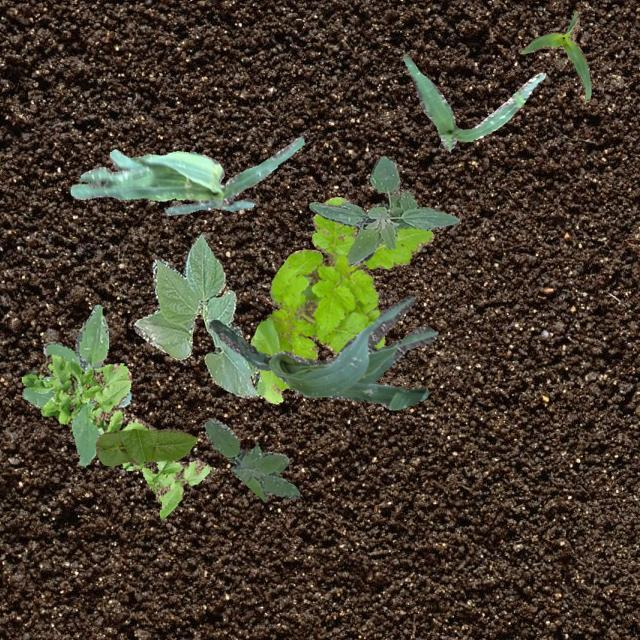crop: (208, 294, 437, 408), (132, 234, 264, 396), (70, 136, 302, 214), (402, 54, 544, 150), (518, 10, 590, 100), (94, 428, 196, 464)
weed: (250, 195, 432, 404), (21, 354, 210, 518), (20, 304, 130, 466), (307, 154, 458, 264), (204, 416, 298, 501)
